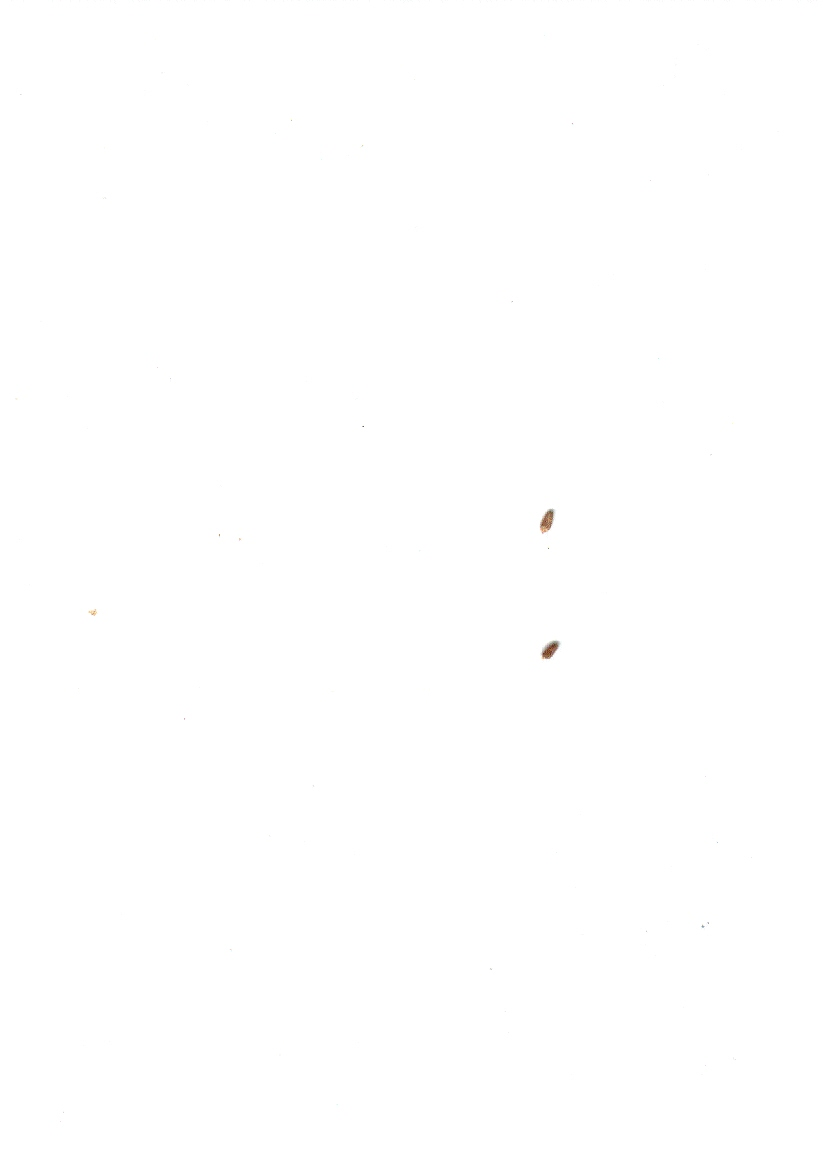grains: (529, 494, 568, 546), (533, 628, 572, 673)
